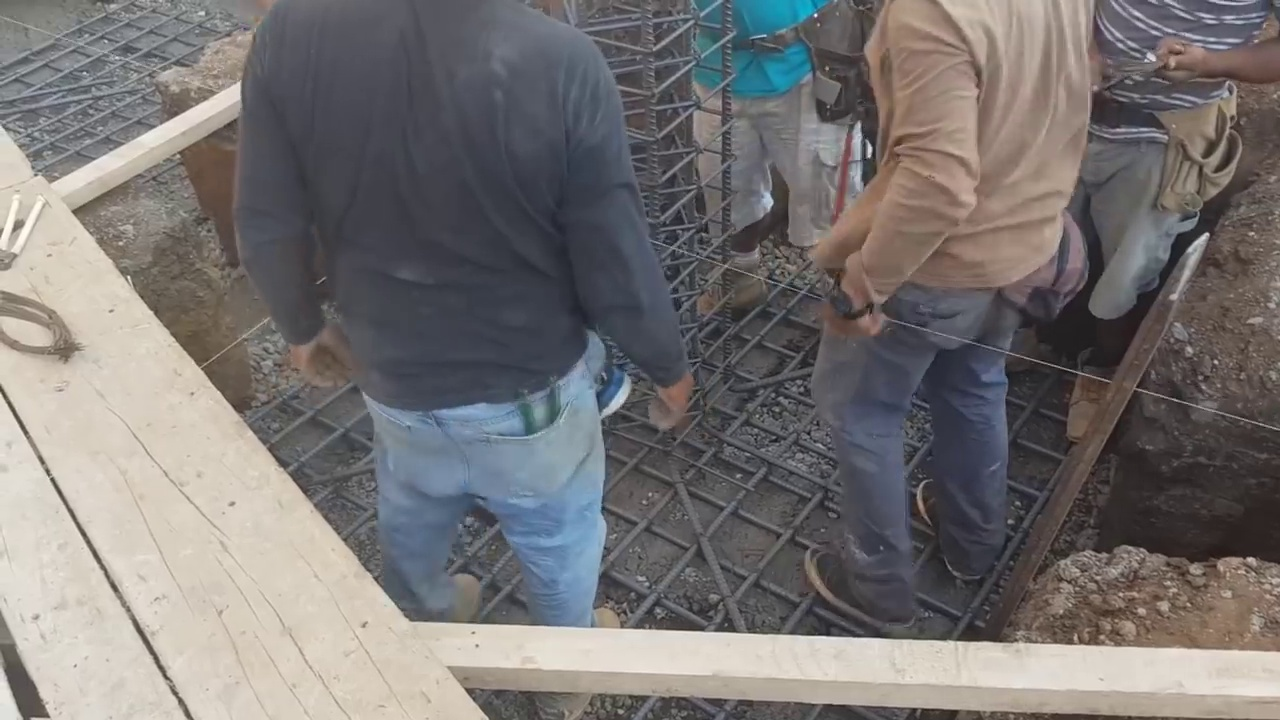person: (185, 0, 681, 635), (797, 3, 1143, 632), (1066, 0, 1278, 436), (676, 0, 828, 339)
